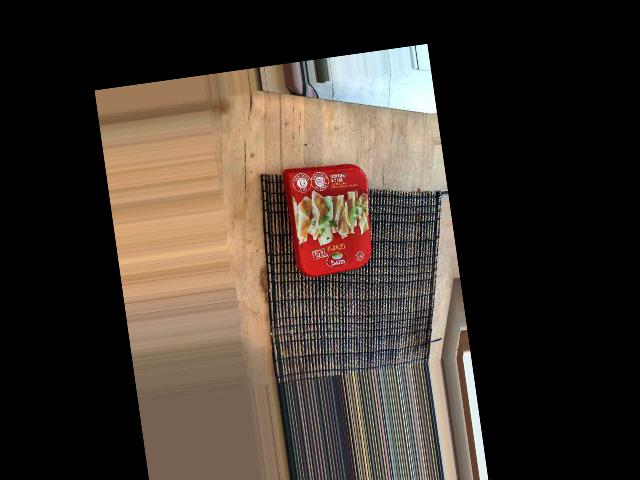cheese: (293, 157, 384, 282)
